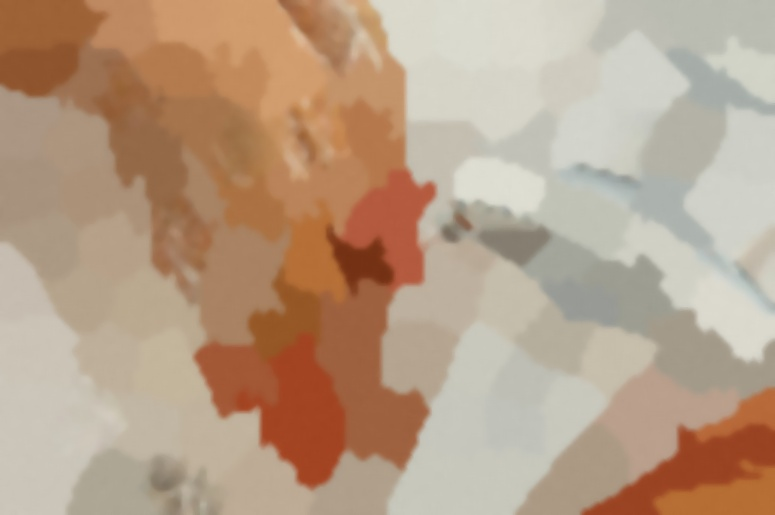washing hand: (0, 0, 618, 514)
